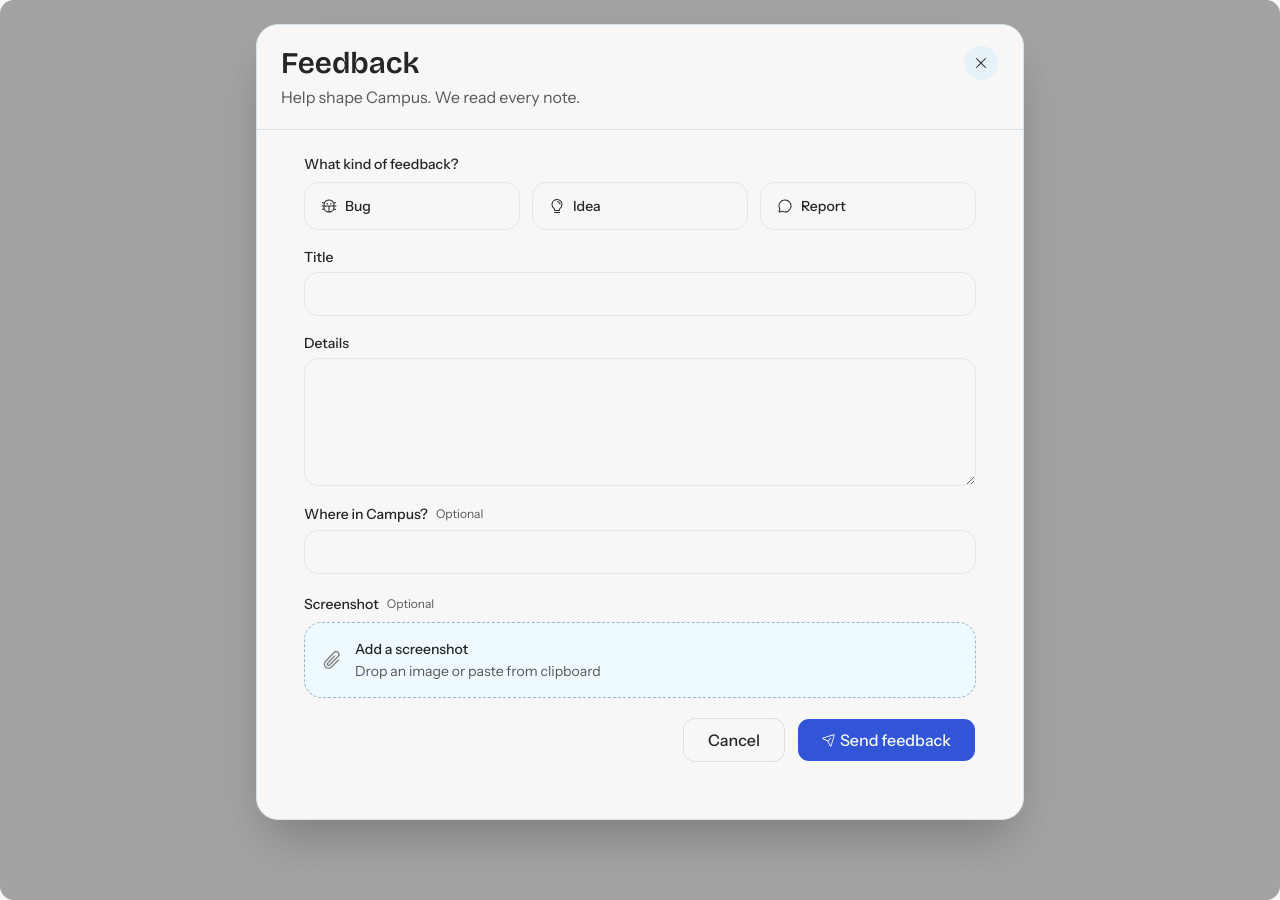
FeedbackPopup › asks for a kind, a title and details before sending
Click the button "Send feedback" at (886, 740), box left=797, top=718, right=976, bottom=762
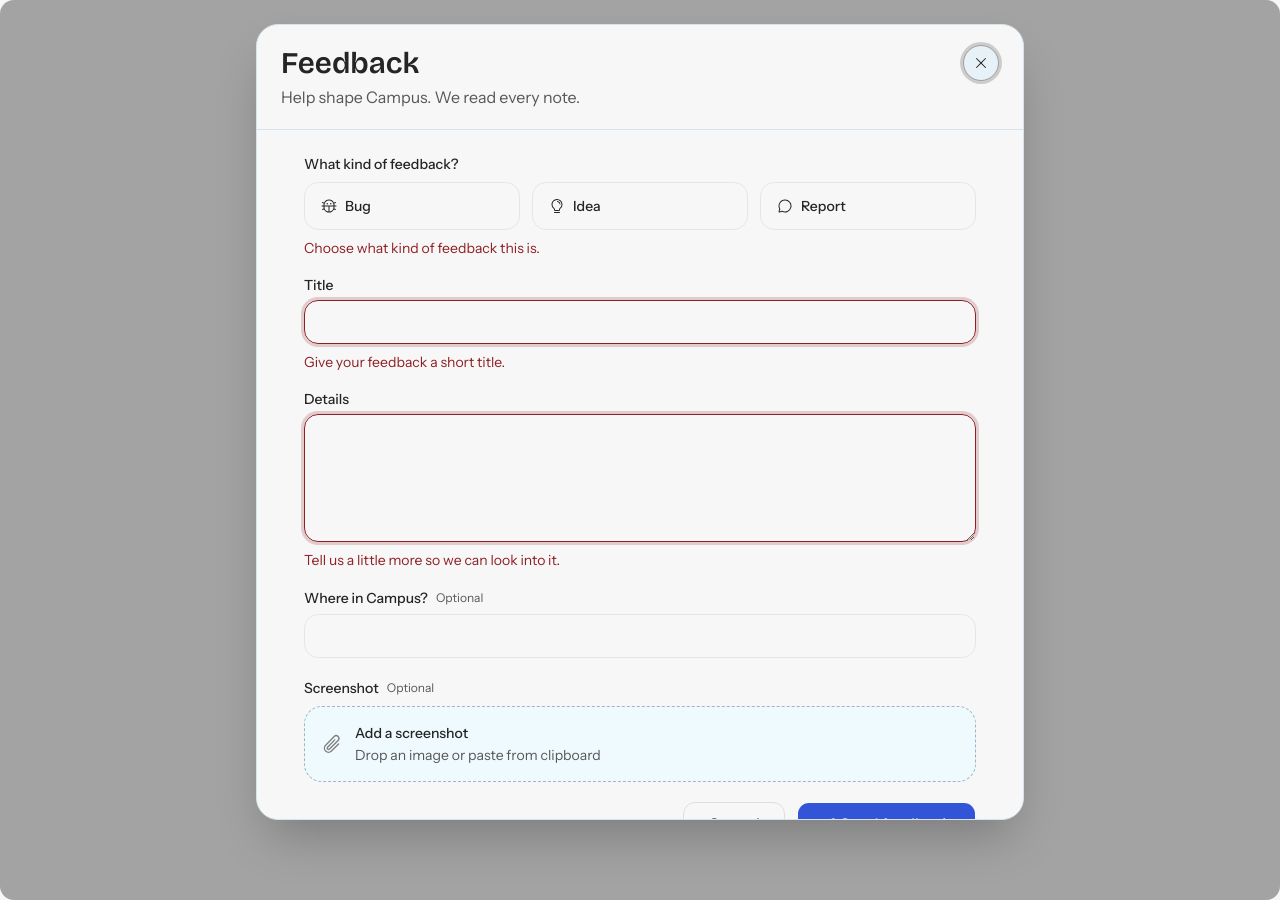
Check: the text "Choose what kind of feedback this is." is shown, box left=304, top=239, right=540, bottom=257
Check: the text "Give your feedback a short title." is shown, box left=304, top=353, right=505, bottom=371
Check: the text "Tell us a little more so we can look into it." is shown, box left=304, top=551, right=560, bottom=569
